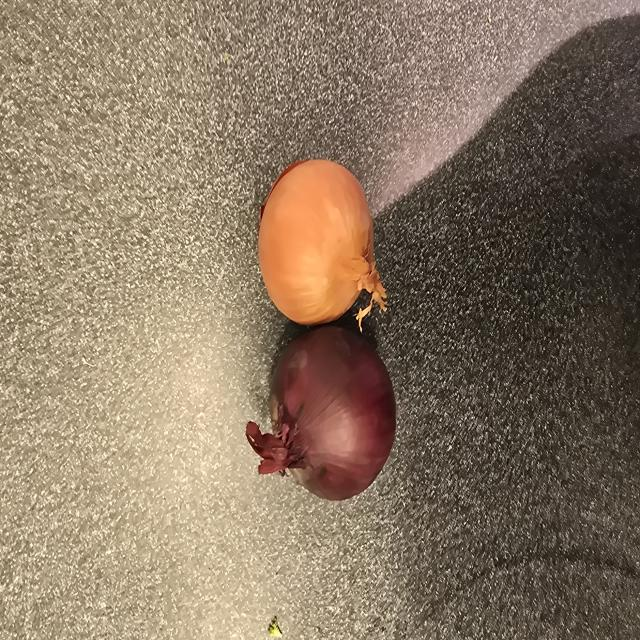Onion: (246, 326, 396, 501), (258, 160, 386, 325)
